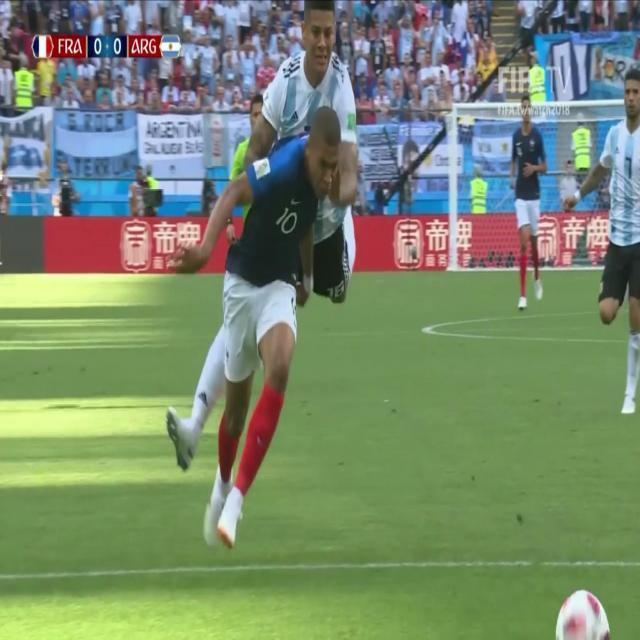ball: (549, 587, 615, 640)
player: (156, 0, 367, 474), (201, 106, 365, 565), (579, 54, 640, 414), (506, 86, 551, 311)
